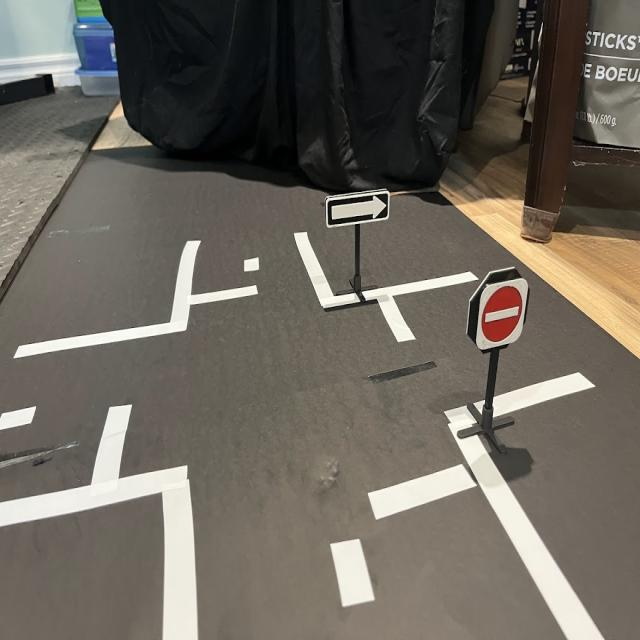sign_noentry: (475, 273, 530, 357)
sign_oneway_right: (326, 184, 393, 231)
